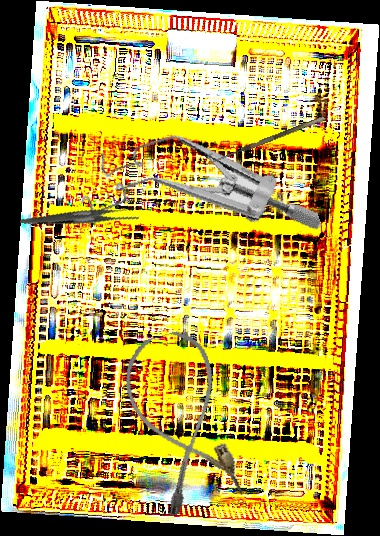Cannula: (114, 324, 248, 519)
Dressing Forceps: (19, 181, 142, 251)
Hook Surgical: (203, 115, 328, 173)
Speculum: (68, 99, 323, 291)
